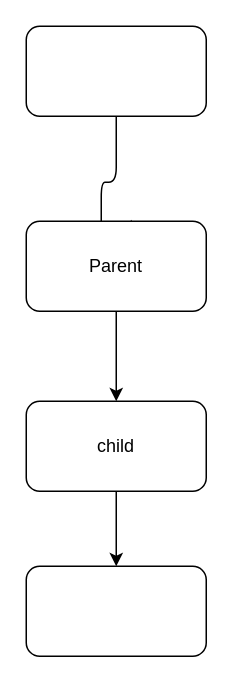
Some shapes in this 233 by 683 pixel diagram are drawn without their labels. Here are the shapes that lost their labels. From the top down, the box of each, then its label:
(25, 25, 206, 116): App
(25, 565, 206, 656): randomcolor
